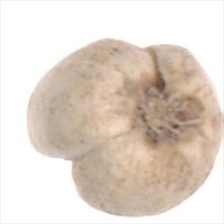L4: (27, 39, 223, 218)
